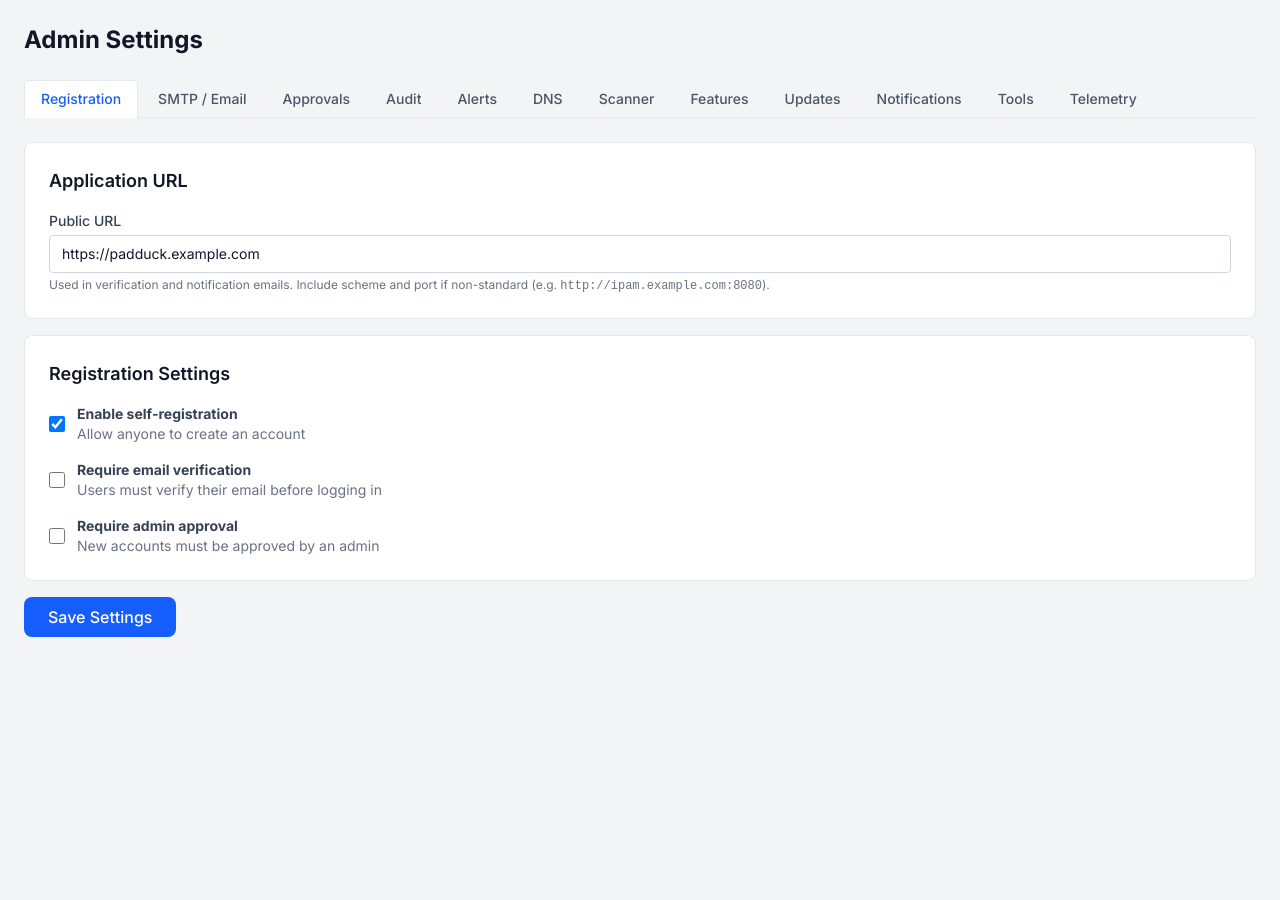
Test: AdminSettingsPage shell › saves only the active tab keys
Expected: the heading "Registration Settings" is shown, [49, 363, 230, 384]
Click the button "Save Settings".
click(100, 617)  # box [24, 597, 176, 637]
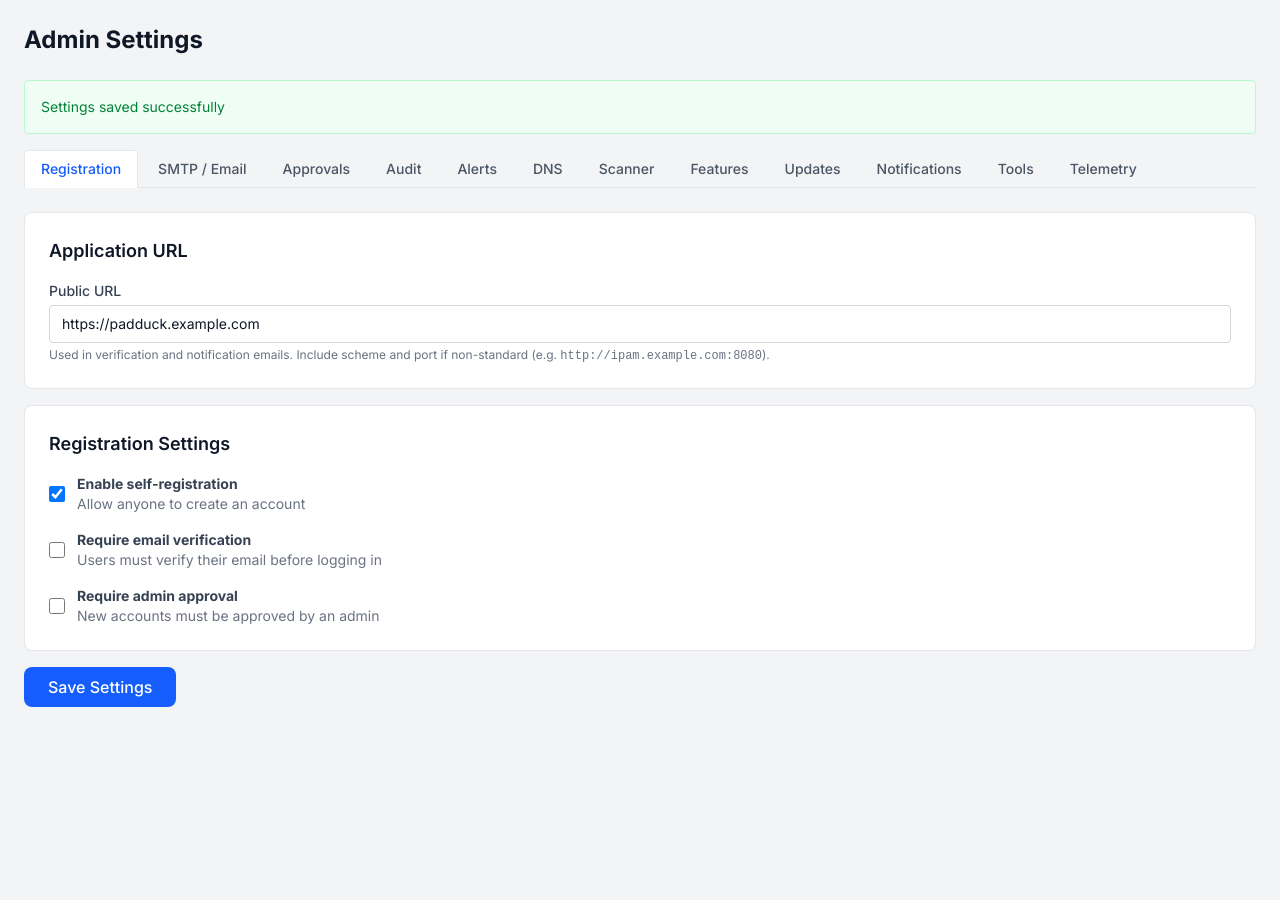
Expected: the text "Settings saved successfully" is shown, [24, 80, 1256, 134]
